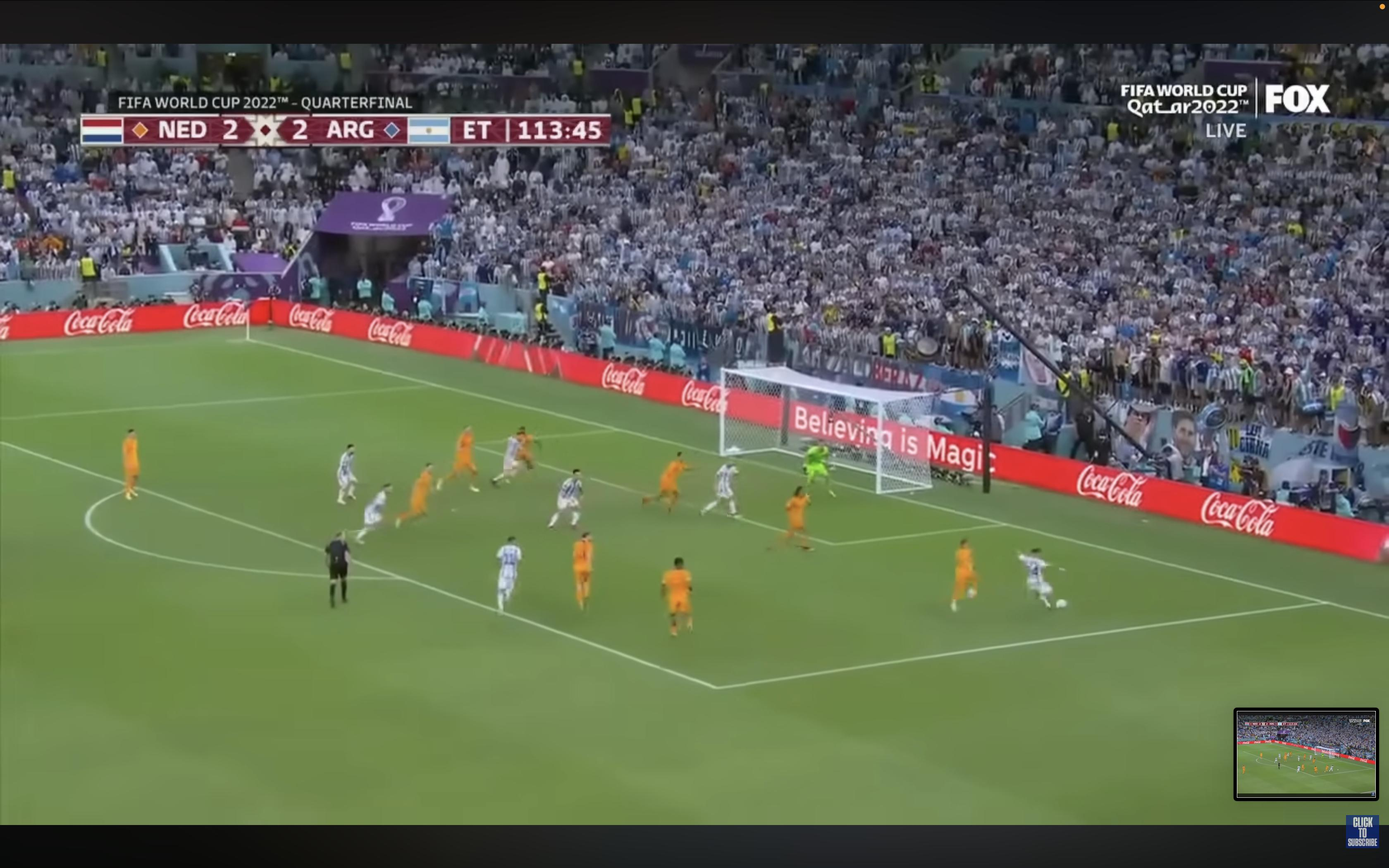ball: (1055, 599, 1067, 608)
goalkeeper: (803, 444, 835, 497)
player: (642, 452, 694, 512), (1019, 548, 1067, 609), (491, 427, 538, 487), (769, 486, 812, 551), (437, 427, 479, 492), (395, 463, 434, 527), (661, 557, 692, 637), (355, 483, 391, 542), (496, 536, 523, 613), (701, 460, 738, 516), (548, 469, 583, 528), (950, 539, 978, 612), (573, 532, 593, 610), (122, 428, 140, 500), (337, 444, 357, 504)
referee: (325, 532, 350, 607)
